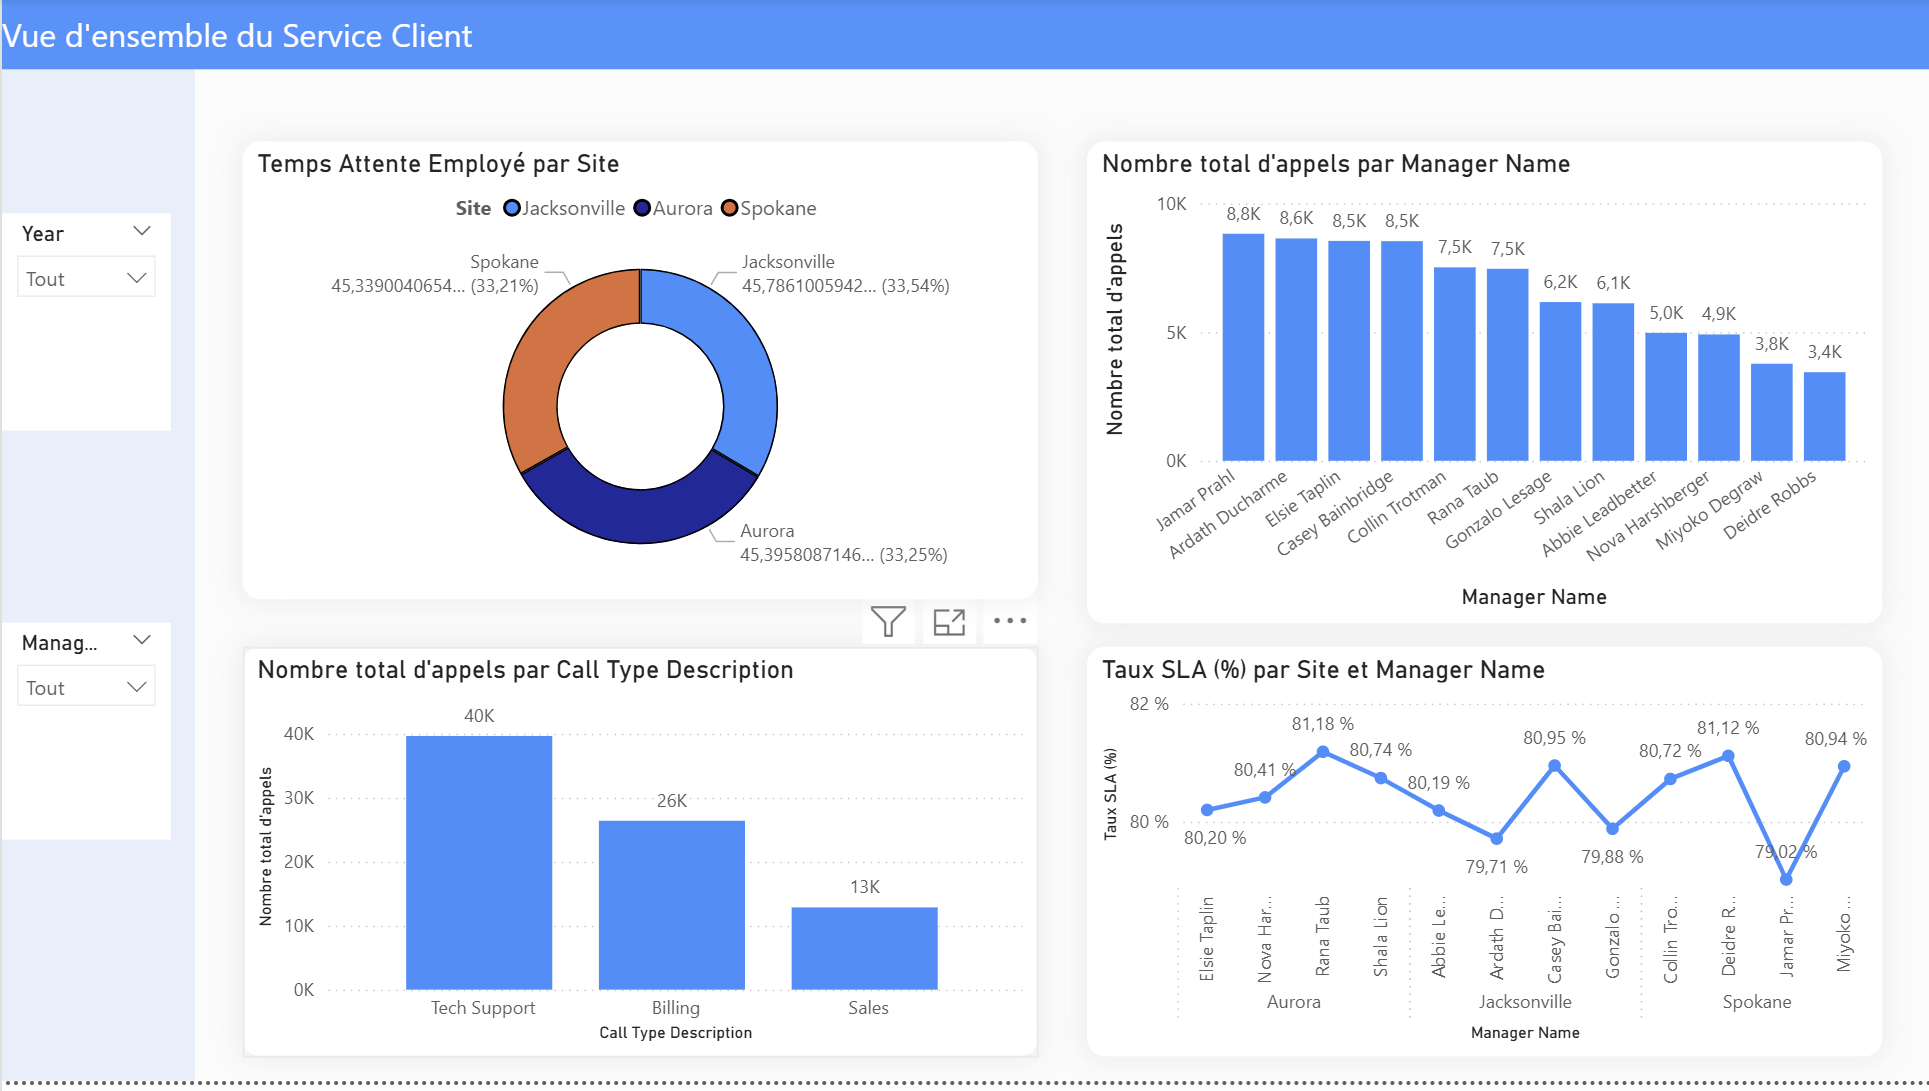

What the dashboard file says about the page in this screenshot:
{"tool":"powerbi","page":{"name":"Performance Managers et Employés","canvas":[1280,720],"ordinal":4},"visuals":[{"type":"shape","box":[0,0,1280,48],"z":0},{"type":"shape","box":[0,48,128,672],"z":1000},{"type":"columnChart","fields":{"Y":["Model Measures.Nombre total d'appels"],"Category":["Employees.Manager Name"]},"box":[720,96,528,320],"z":2000},{"type":"columnChart","fields":{"Y":["Model Measures.Nombre total d'appels"],"Category":["Call Type Charges.Call Type Description"]},"box":[160,432,528,272],"z":3000},{"type":"donutChart","fields":{"Y":["Model Measures.Temps Attente Employé"],"Category":["Employees.Site"]},"box":[160,96,528,304],"z":4000},{"type":"slicer","fields":{"Values":["Call Data All Years.Year"]},"box":[0,144,112,144],"z":5000},{"type":"lineChart","fields":{"Y":["Model Measures.Taux SLA (%)"],"Category":["Employees.Site","Employees.Manager Name"]},"box":[720,432,528,272],"z":6000},{"type":"slicer","fields":{"Values":["Employees.Manager Name"]},"box":[0,416,112,144],"z":6001}]}

Visuals, with their boxes in screenshot pixels (x1, y1, x2, y2), scaled from the page's 1280x720 canvas onto the 1929x1091 screenshot:
shape: box(0, 0, 1928, 73)
shape: box(0, 73, 193, 1090)
columnChart - Model Measures.Nombre total d'appels x Employees.Manager Name: box(1085, 145, 1881, 630)
columnChart - Model Measures.Nombre total d'appels x Call Type Charges.Call Type Description: box(241, 655, 1037, 1067)
donutChart - Model Measures.Temps Attente Employé x Employees.Site: box(241, 145, 1037, 606)
slicer - Call Data All Years.Year: box(0, 218, 169, 436)
lineChart - Model Measures.Taux SLA (%) x Employees.Site: box(1085, 655, 1881, 1067)
slicer - Employees.Manager Name: box(0, 630, 169, 849)
